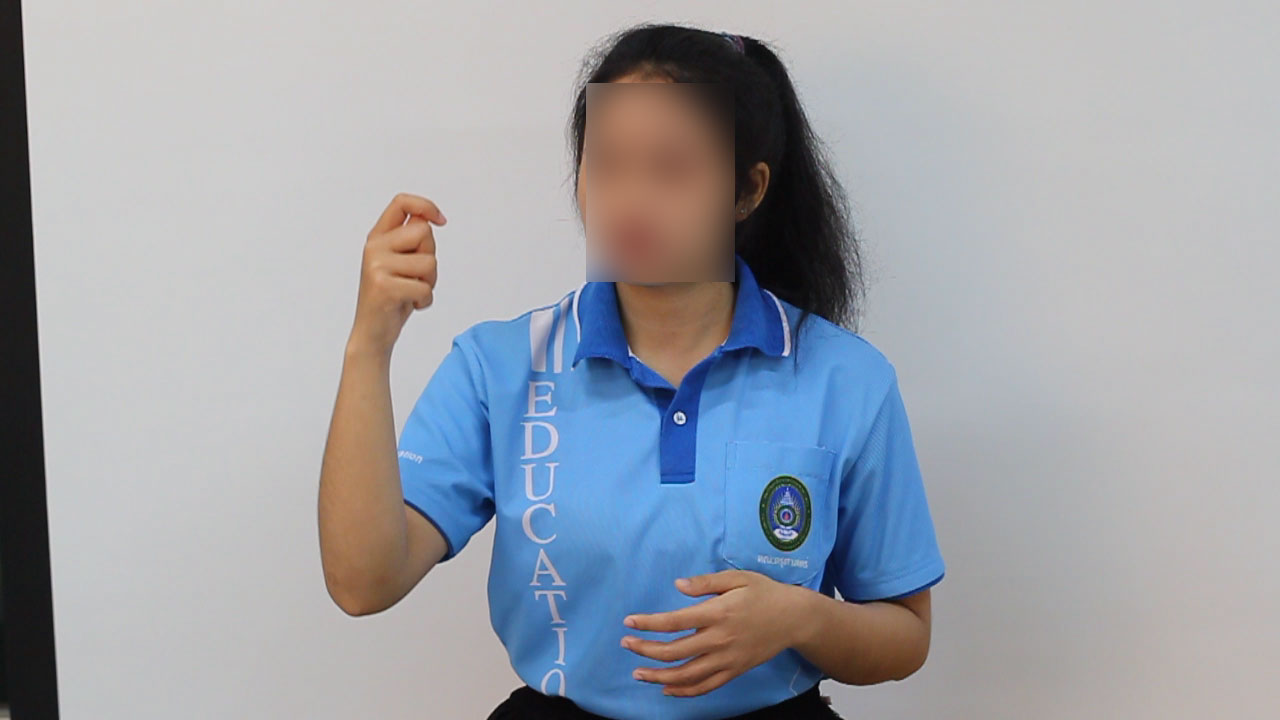or: (356, 187, 450, 337)
